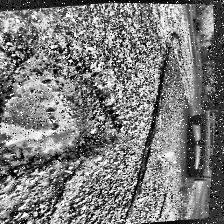pothole: (0, 60, 104, 172)
